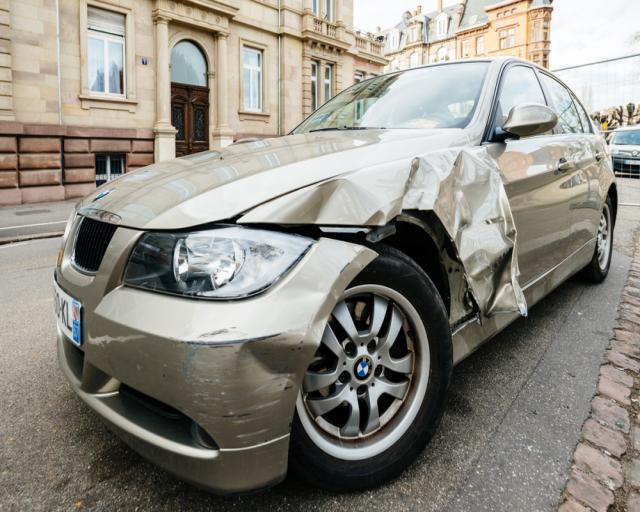dent: (279, 147, 523, 312), (232, 275, 338, 398)
scratch: (180, 322, 286, 444), (84, 331, 150, 347)
